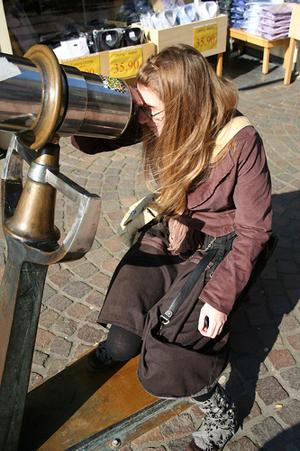person: (99, 43, 270, 446)
